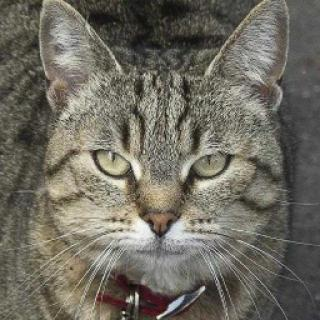cat: (35, 0, 296, 289)
nose: (135, 187, 187, 238)
